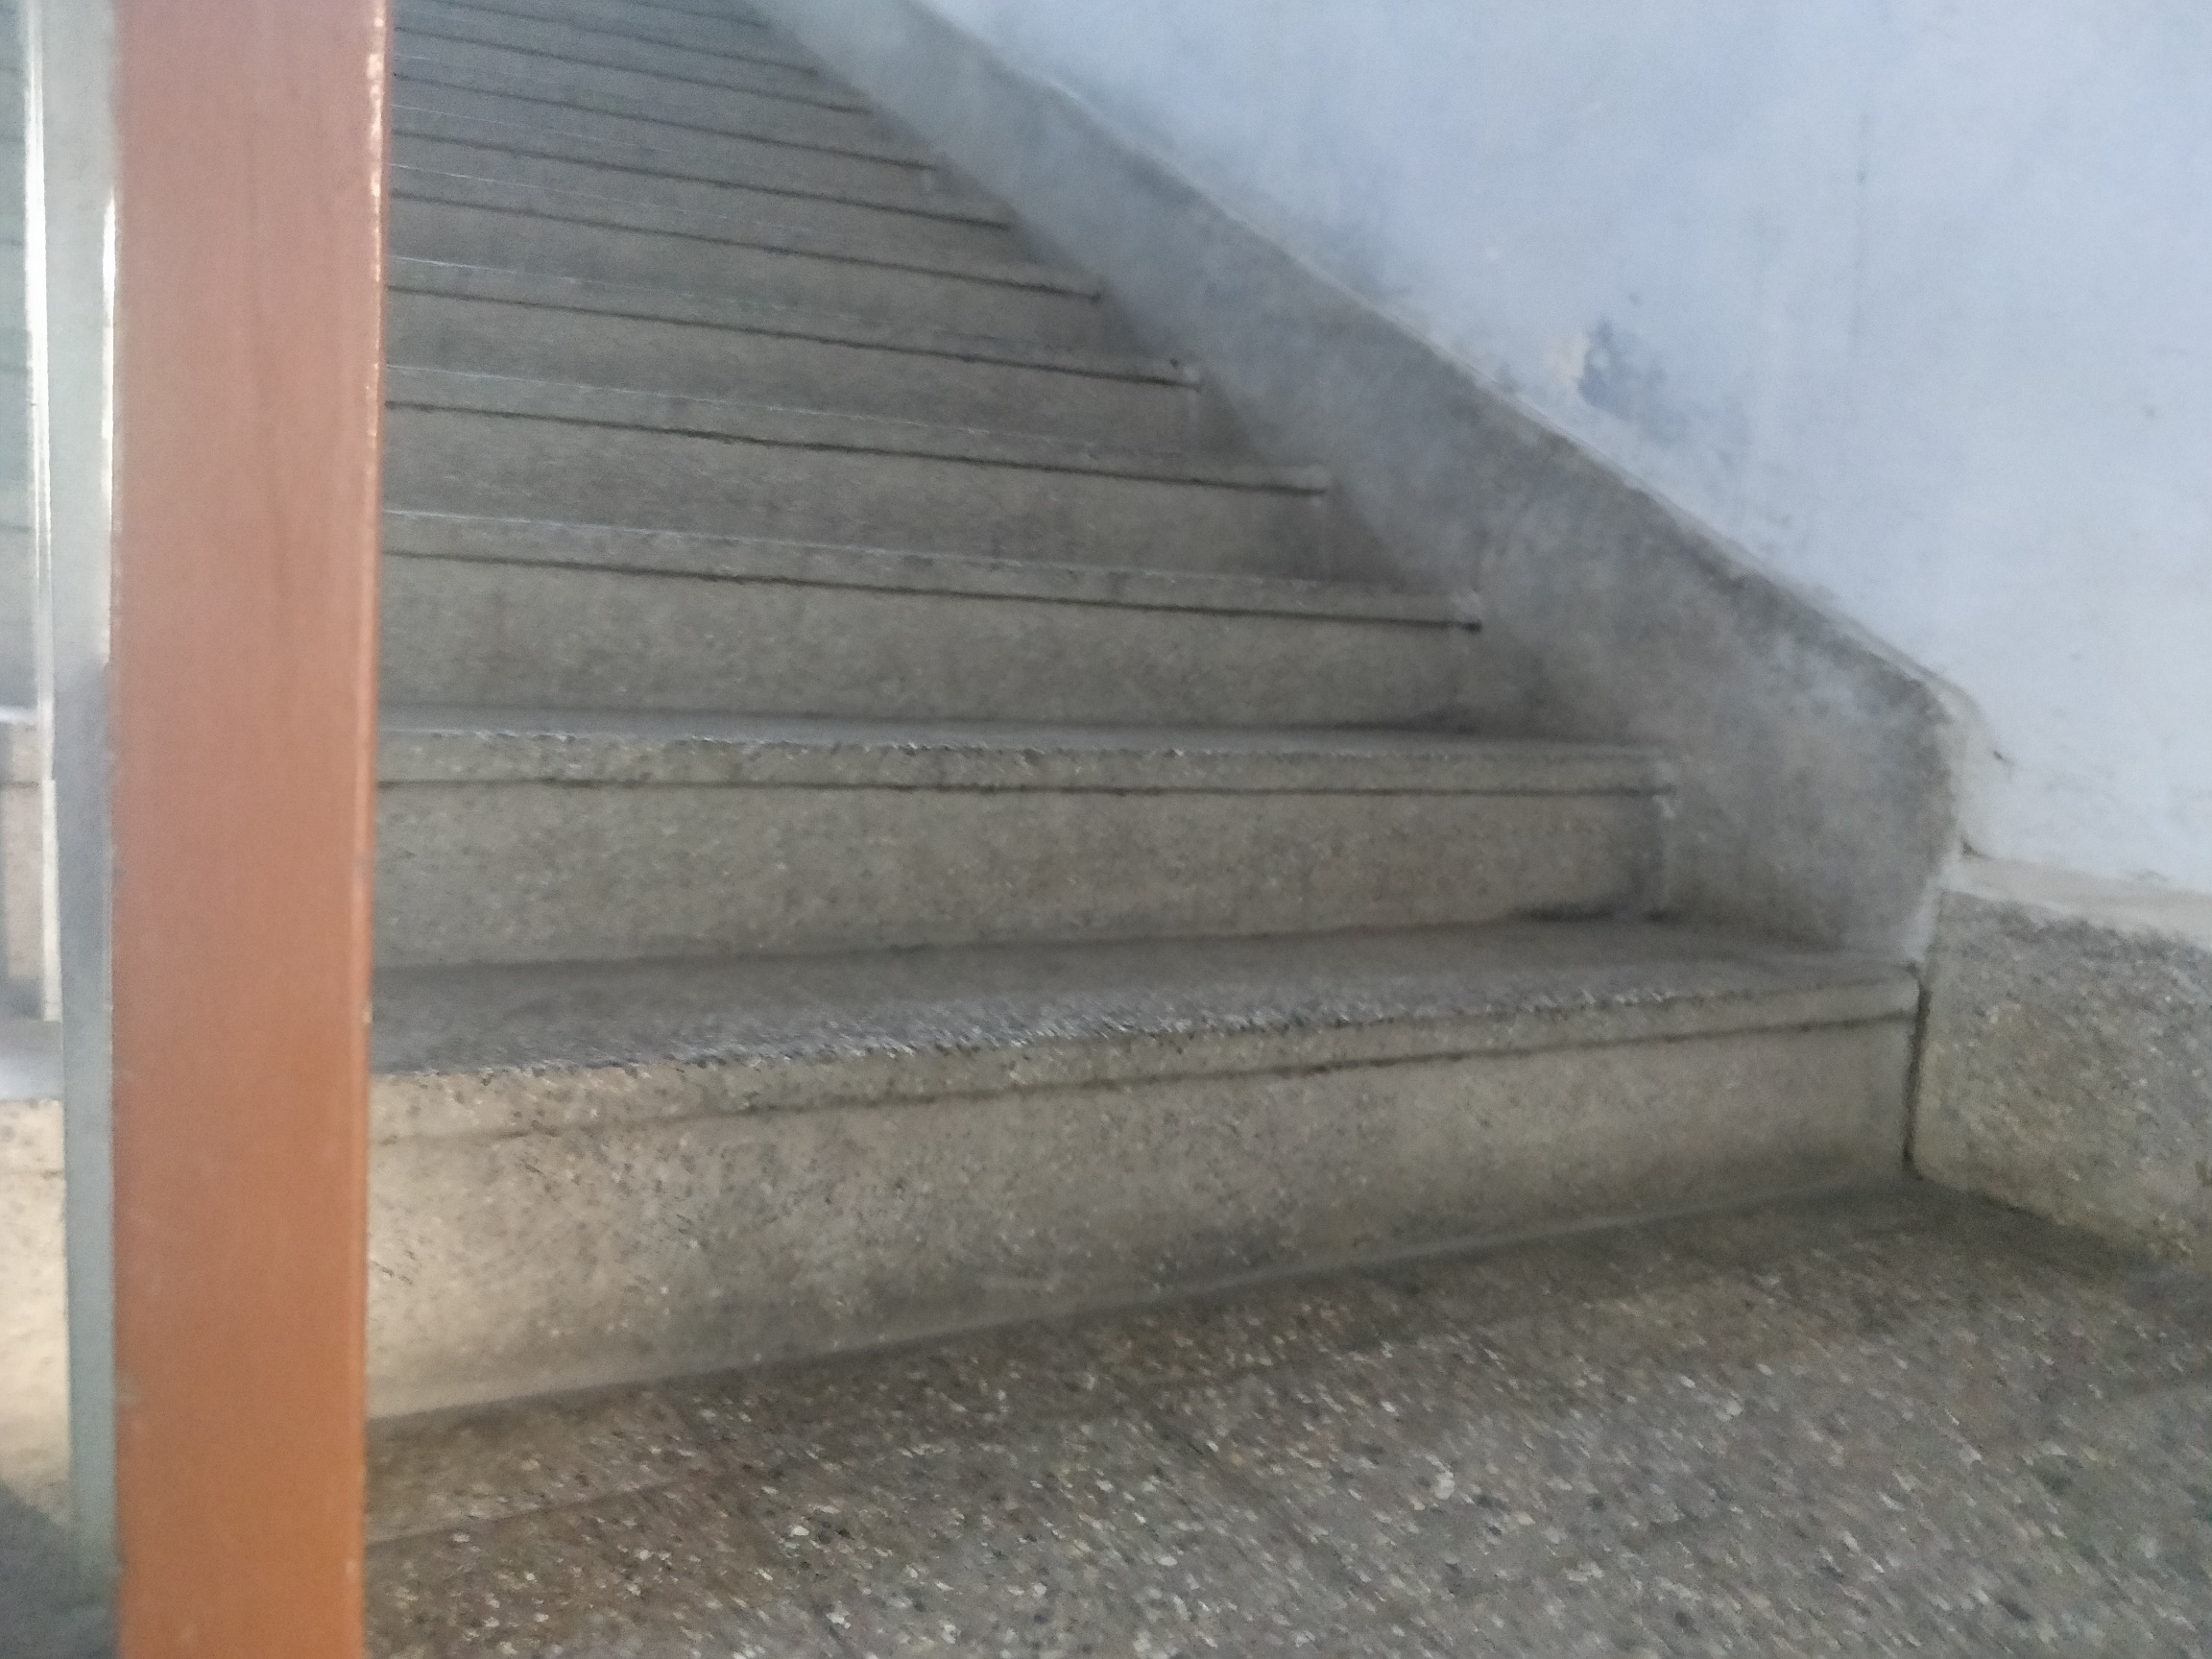stairs_up: (7, 5, 1909, 1328)
